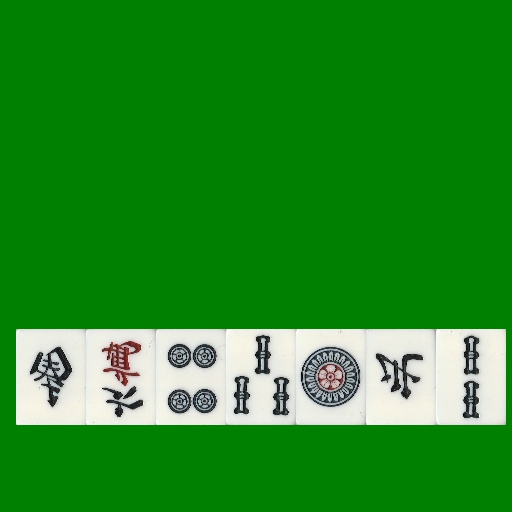1p: (296, 329, 366, 425)
2s: (436, 329, 506, 425)
3s: (226, 329, 296, 425)
4p: (156, 329, 226, 425)
6m: (86, 329, 156, 425)
north: (366, 329, 436, 425)
south: (16, 329, 86, 425)
